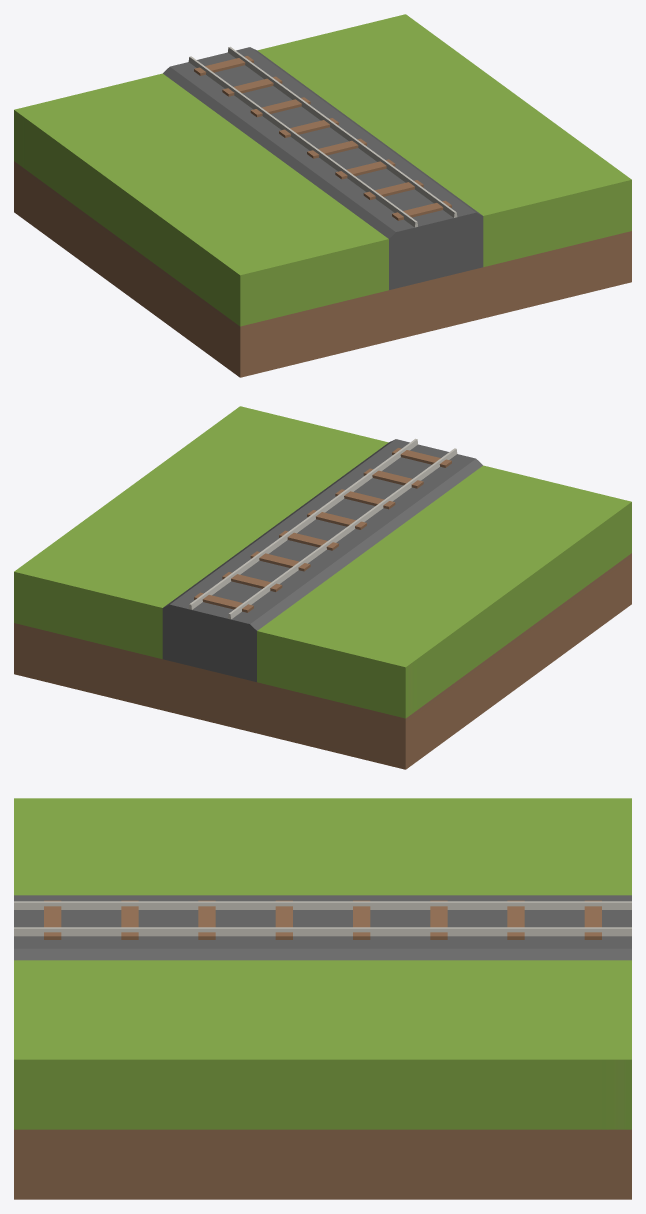
Rendered from rail_straight.fbx.
The picture shows the model from 3 angles, top to bottom: view 1: azimuth 30°, elevation 25°; view 2: azimuth 150°, elevation 25°; view 3: azimuth 270°, elevation 25°; orthographic projection. The views are drawn at different scales.
Parts seen in each view (by area): view 1: landscape-track-1-straight; view 2: landscape-track-1-straight; view 3: landscape-track-1-straight.
Part boxes in pixels (x1,y1,x2,y2): landscape-track-1-straight: (14,14,631,377); landscape-track-1-straight: (14,406,631,769); landscape-track-1-straight: (14,798,631,1199).
Size of the model in its own units: 8 by 2.2 by 8.
Materials: 1 (1 with a texture image).
